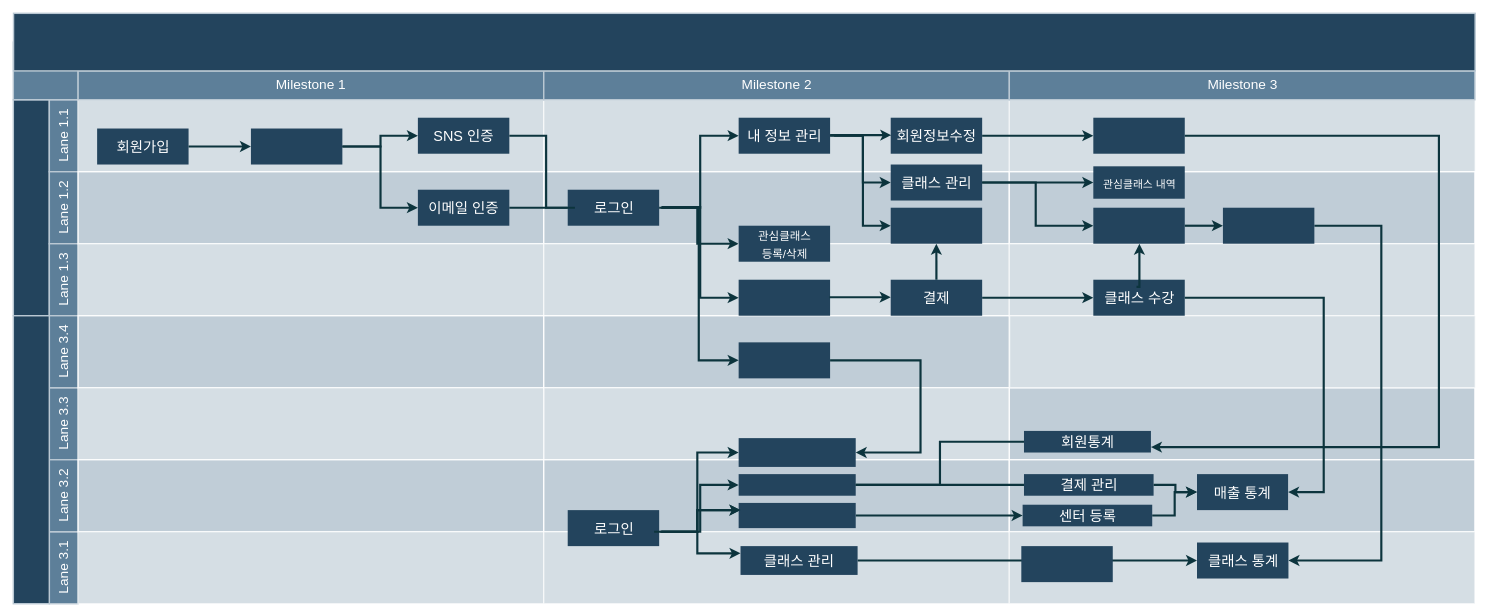
Some shapes in this 1491 by 616 pixel diagram are drawn without their labels. The box of each missing label's shape, as (x1, y1, x2, y2) in pixels:
LiClass Project: (12, 12, 1475, 71)
결제내역: (890, 207, 982, 243)
공지/문의 관리: (738, 438, 855, 467)
관리자: (12, 315, 50, 604)
문의글 등록: (738, 342, 830, 378)
사용자: (12, 99, 50, 316)
센터(강사)관리: (738, 503, 855, 528)
수강내역: (1093, 207, 1184, 243)
일반회원: (251, 128, 342, 164)
일반회원관리: (738, 474, 855, 495)
클래스 등록: (1021, 546, 1112, 582)
클래스 예약: (738, 279, 830, 315)
클래스 후기: (1223, 207, 1314, 243)
회원탈퇴: (1093, 117, 1184, 153)
